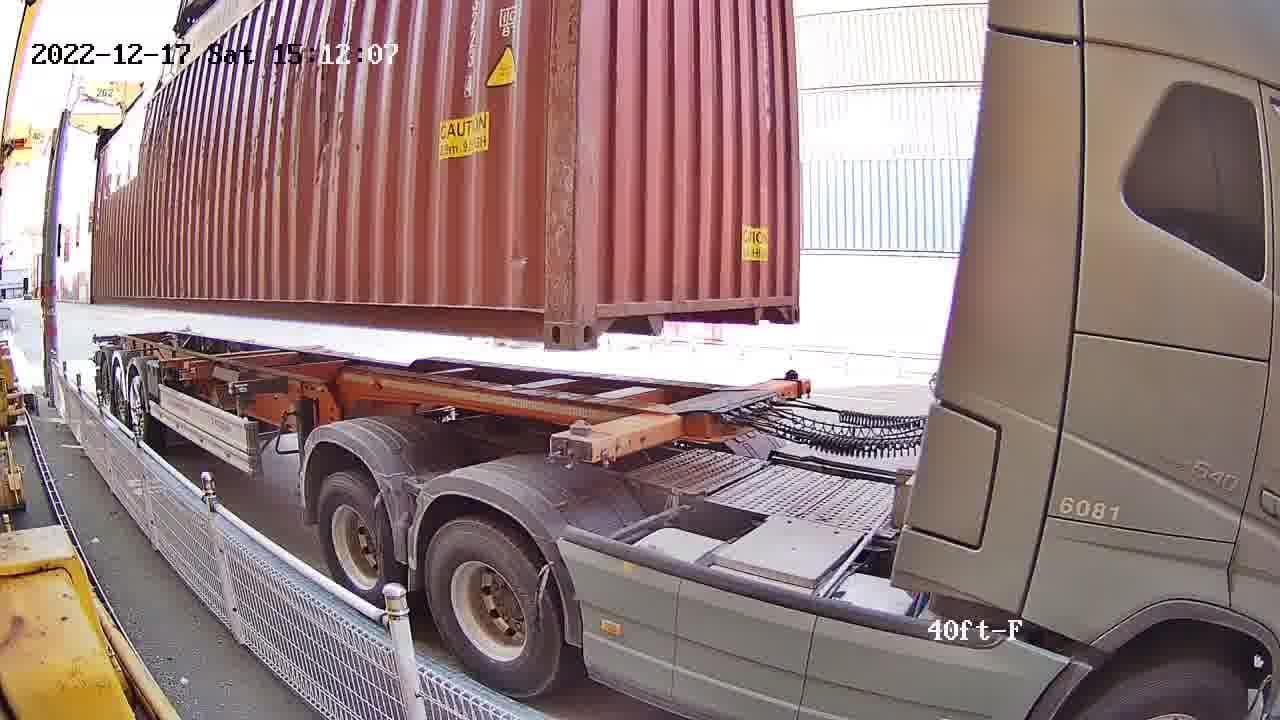Chassis: (553, 374, 810, 458)
Cone: (549, 414, 598, 461), (781, 367, 801, 386)
Hole_L: (575, 282, 623, 349)
Hole_R: (509, 282, 575, 346), (763, 278, 801, 324)
Tire: (429, 525, 554, 693), (320, 481, 394, 597)
